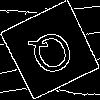Q: (25, 25, 82, 86)
